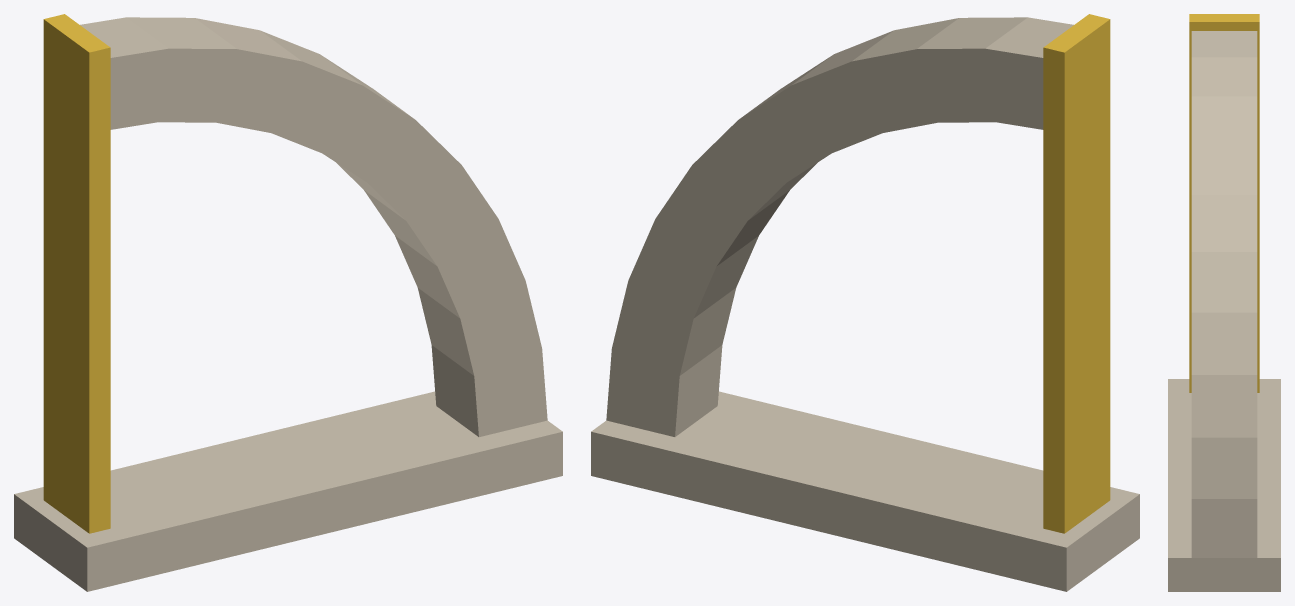
File: sextant.glb
3 renders of one model, left to right at view 1: azimuth 30°, elevation 25°; view 2: azimuth 150°, elevation 25°; view 3: azimuth 270°, elevation 25°, orthographic. The views are drawn at different scales.
Visible parts, largest first — view 1: sextant; view 2: sextant; view 3: sextant.
Boxes of the visible parts, x1,y1,x2,y2 form: sextant: (14, 14, 562, 591); sextant: (591, 14, 1139, 591); sextant: (1168, 14, 1280, 591).
Bounding box in the file's own units: 0.9 × 0.95 × 0.24.
